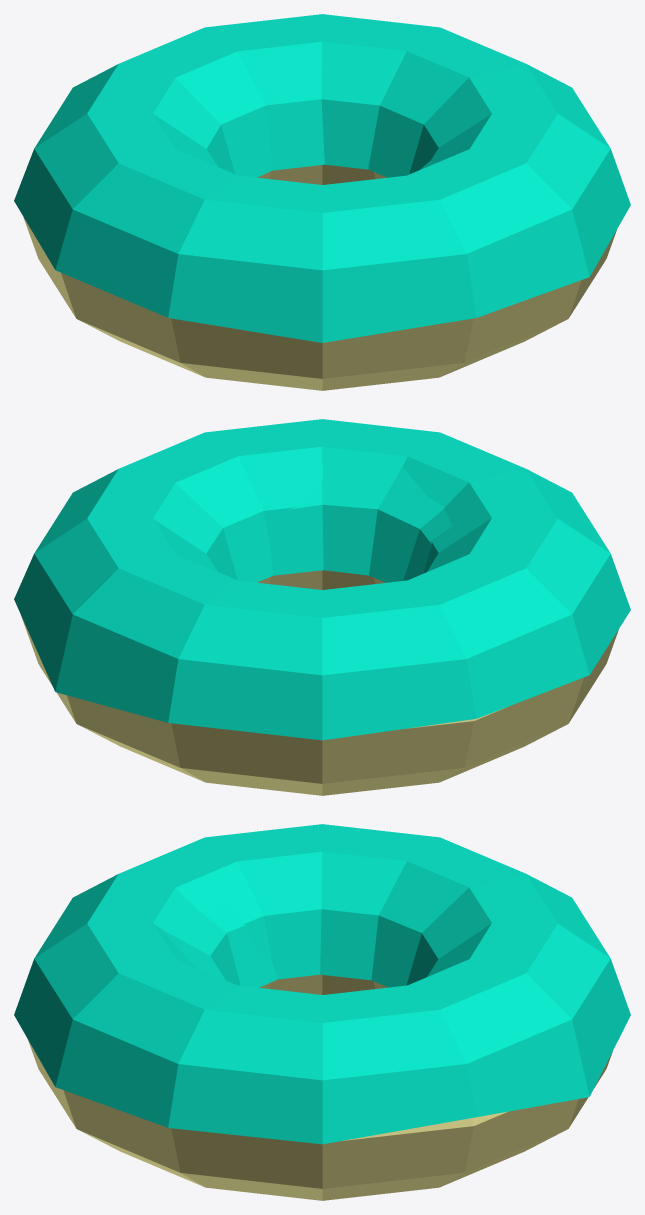
The model's file is Donut.fbx.
3 views of the same model, one above another, from view 1: azimuth 30°, elevation 25°; view 2: azimuth 150°, elevation 25°; view 3: azimuth 270°, elevation 25° (orthographic).
Visible parts, largest first — view 1: Donut; view 2: Donut; view 3: Donut.
Boxes of the visible parts, <box> form: Donut: <box>14,14,630,390</box>; Donut: <box>14,419,630,795</box>; Donut: <box>14,824,630,1200</box>.
Bounding box in the file's own units: 17.08 × 17.08 × 5.46.
